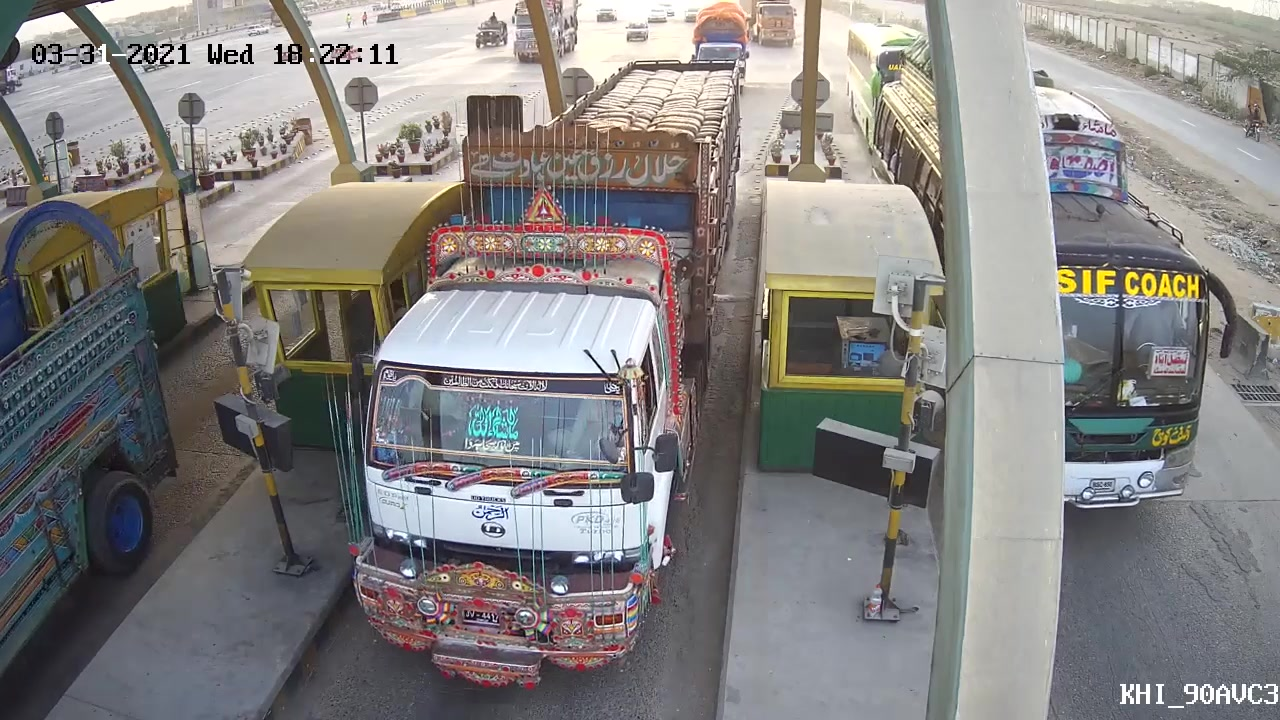F6: (361, 44, 749, 691)
